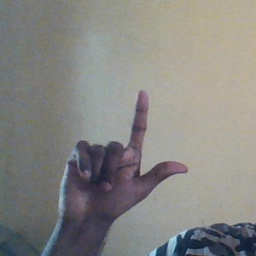L: (55, 88, 191, 224)
